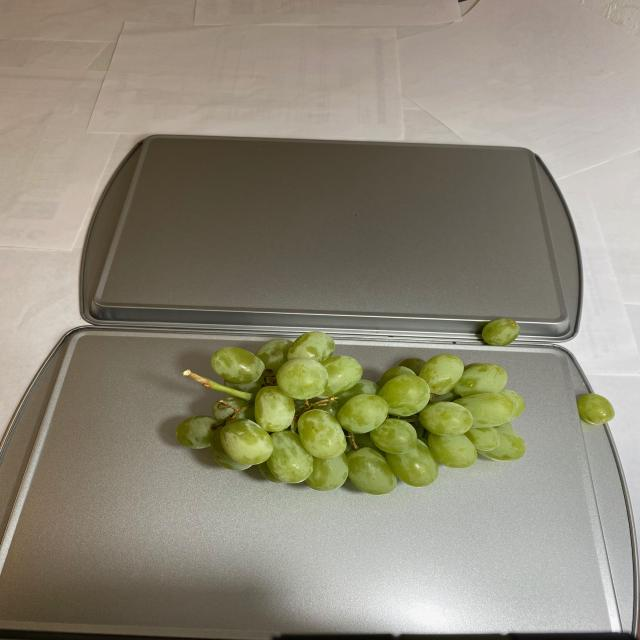Grapes: (161, 317, 533, 483), (572, 391, 622, 428)
